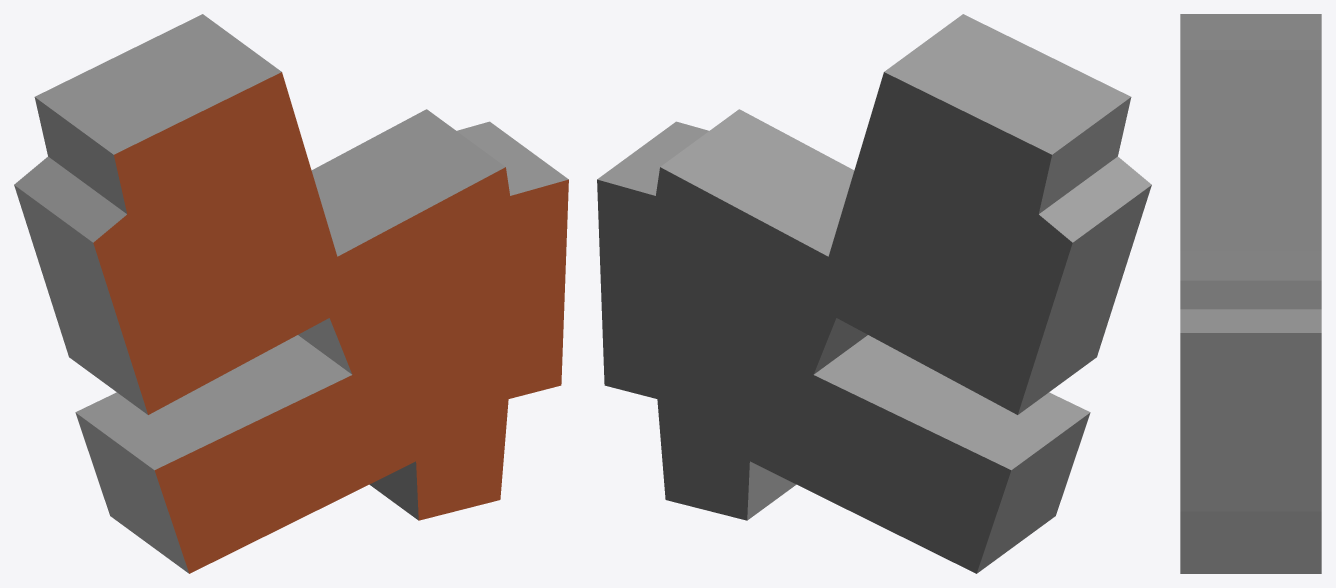
Rendered from construction_3984_assumed_A_Casa_h6m.obj.
3 renders of one model, left to right at view 1: azimuth 30°, elevation 25°; view 2: azimuth 150°, elevation 25°; view 3: azimuth 270°, elevation 25°, orthographic. The views are drawn at different scales.
Visible parts, largest first — view 1: construction_3984_assumed_A_Casa; view 2: construction_3984_assumed_A_Casa; view 3: construction_3984_assumed_A_Casa.
Part boxes in pixels (<box>): construction_3984_assumed_A_Casa: <box>14,14,568,573</box>; construction_3984_assumed_A_Casa: <box>597,14,1151,573</box>; construction_3984_assumed_A_Casa: <box>1180,14,1321,573</box>.
Size of the model in its own units: 20.81 by 20.15 by 6.
